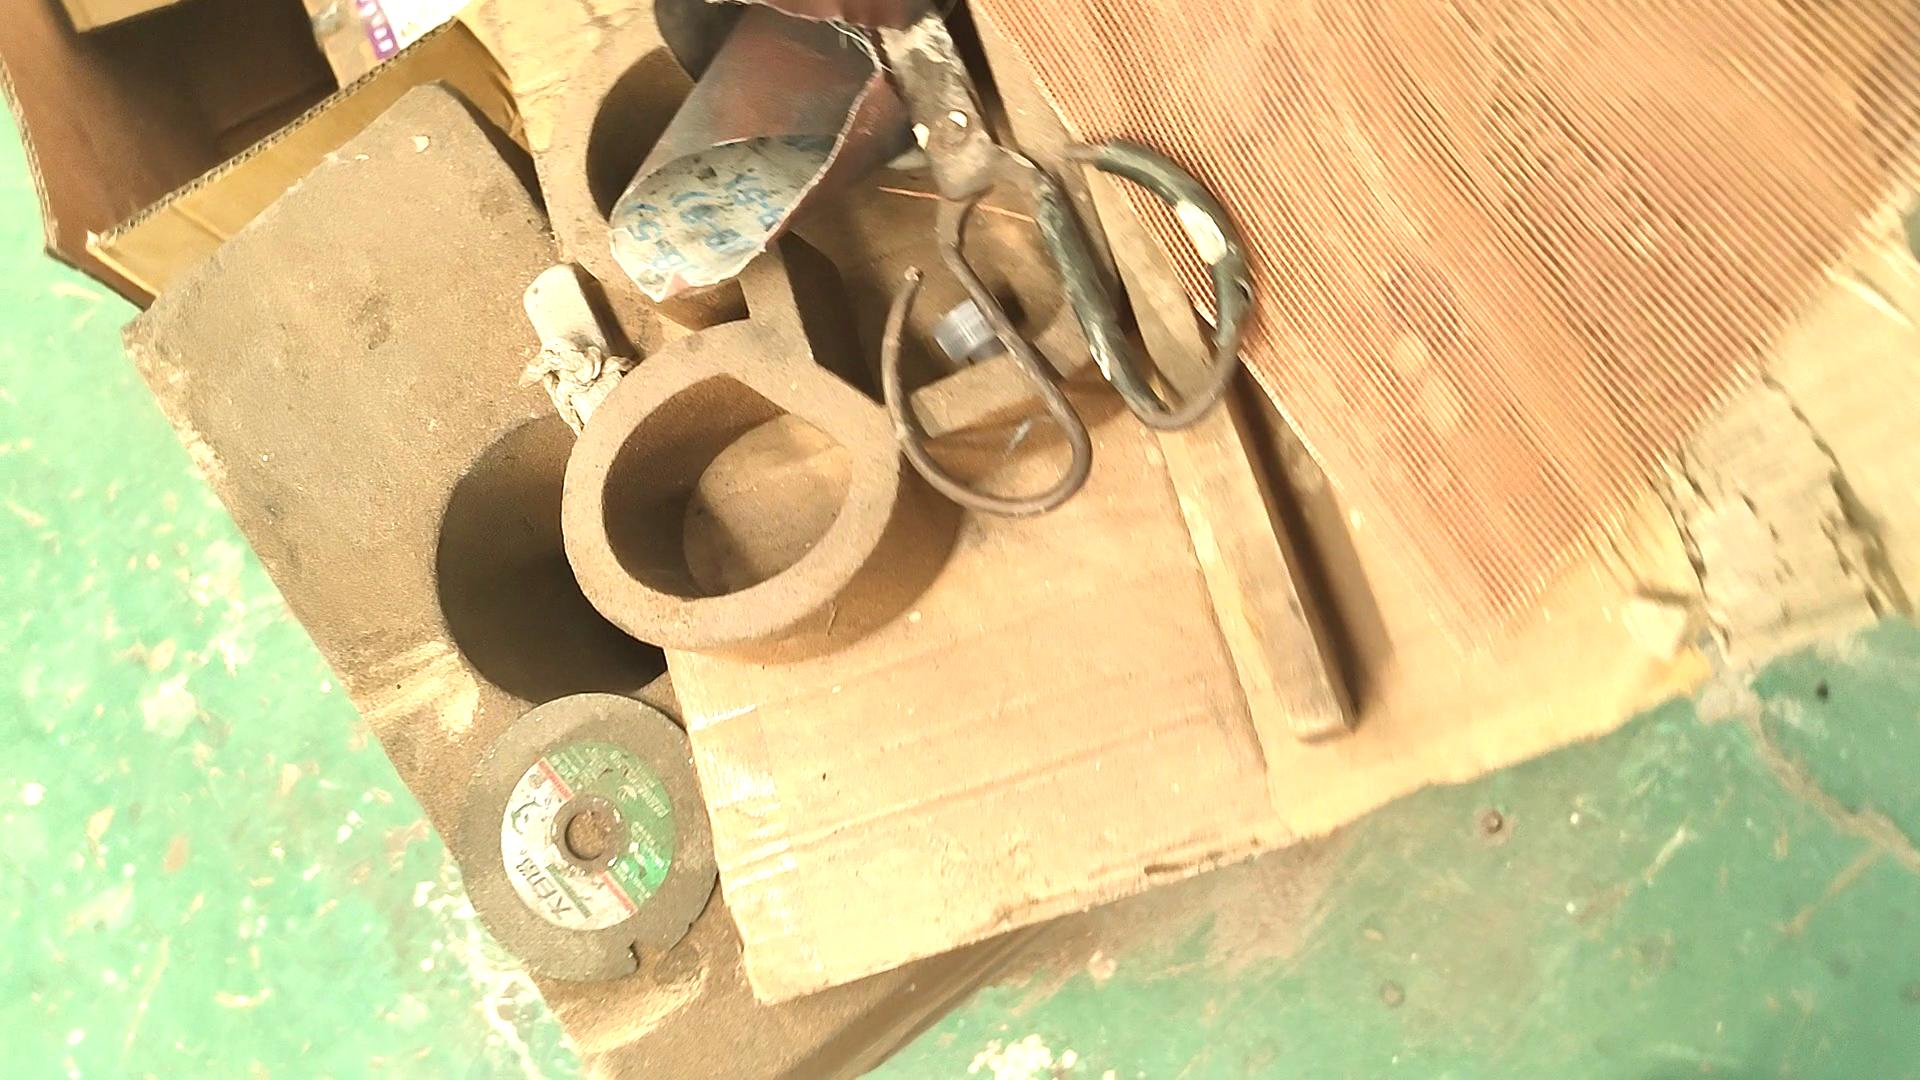pouring hole: (433, 404, 711, 707)
